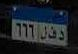6: (28, 23, 35, 39), (22, 23, 28, 38), (15, 22, 21, 37)
daal: (58, 30, 65, 42)
faa: (48, 26, 57, 40)
laam: (40, 25, 47, 41)
